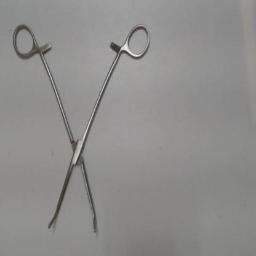Lahey Forceps: (10, 22, 154, 238)
